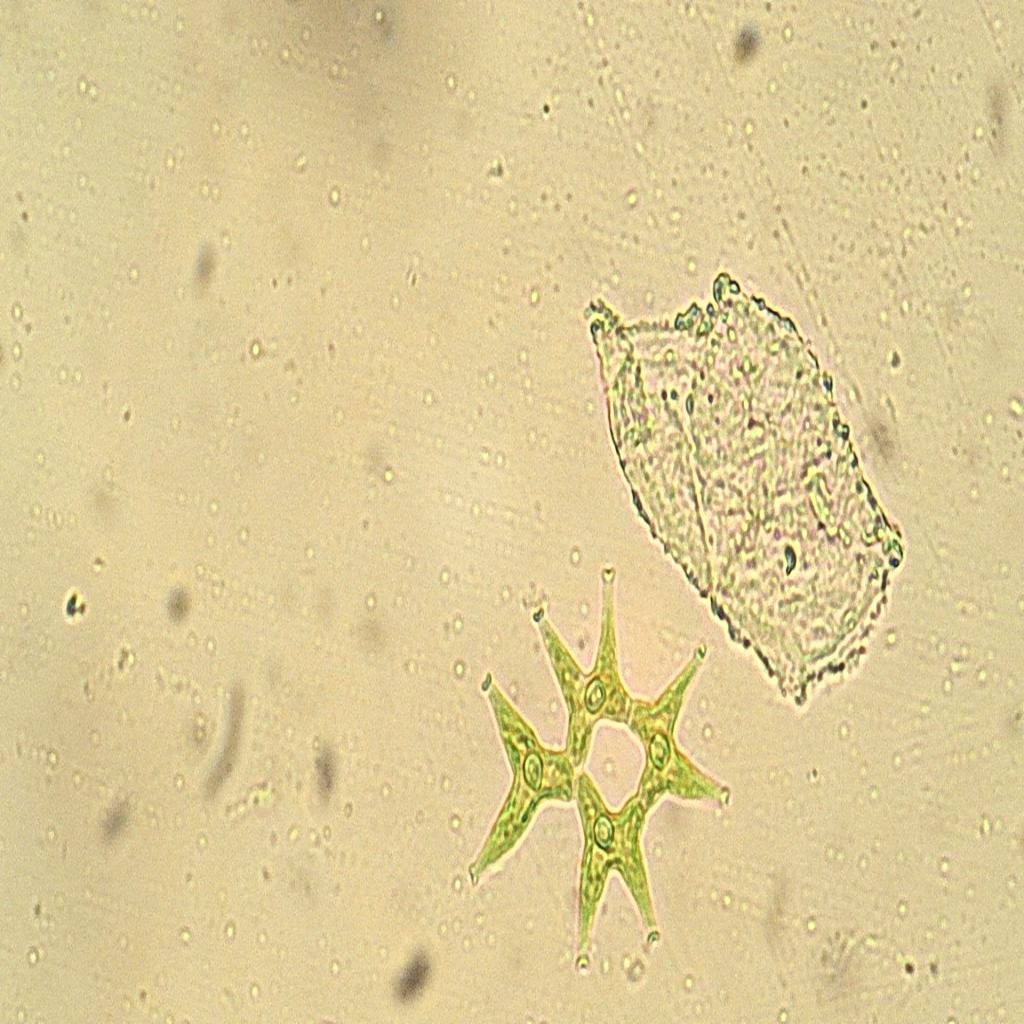Pediastrum_75FI: (439, 554, 752, 980)
